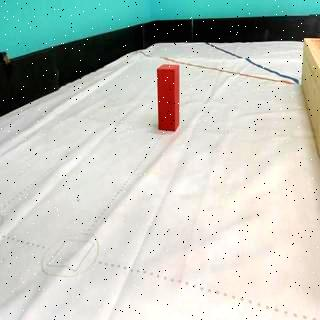redbox: (156, 63, 179, 131)
